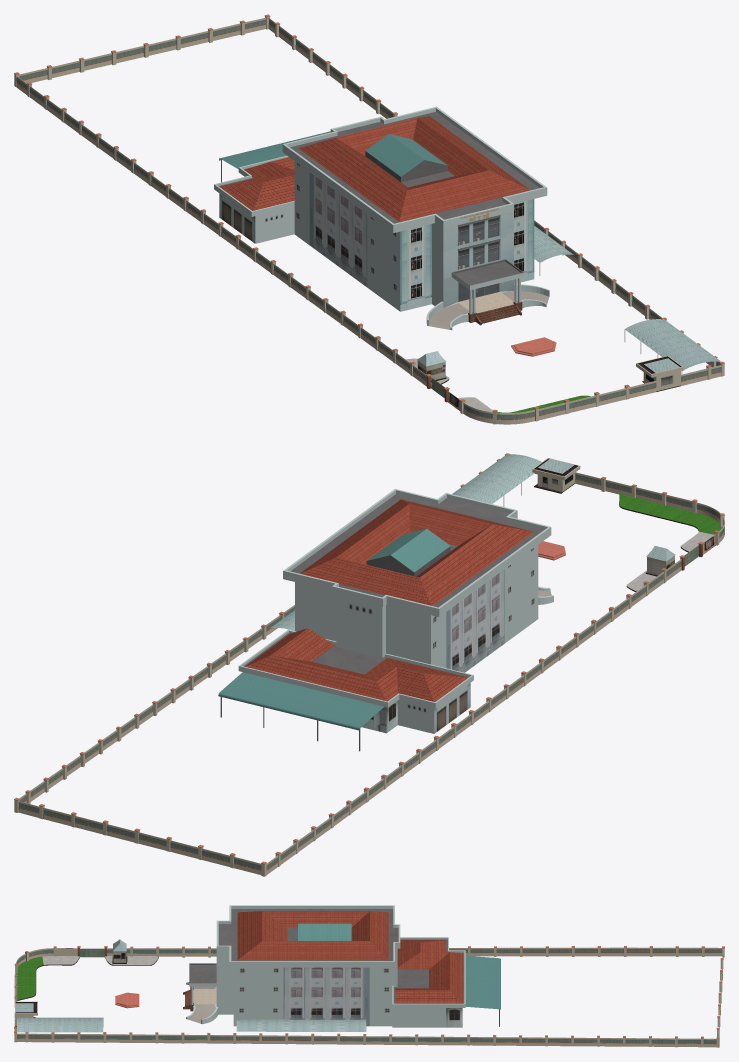
The model's file is Sở Y Tế Bình Phước.glb.
The picture shows the model from 3 angles, top to bottom: view 1: azimuth 30°, elevation 25°; view 2: azimuth 150°, elevation 25°; view 3: azimuth 270°, elevation 25°; orthographic projection. The views are drawn at different scales.
Visible parts, largest first — view 1: BPH081_2, BPH081_1; view 2: BPH081_2, BPH081_1; view 3: BPH081_2, BPH081_1, BPH081_1.001.
Boxes of the visible parts, x1=… form: BPH081_2: x1=214, y1=106, x2=549, y2=330; BPH081_1: x1=14, y1=14, x2=724, y2=424; BPH081_2: x1=218, y1=489, x2=553, y2=751; BPH081_1: x1=14, y1=453, x2=724, y2=876; BPH081_2: x1=183, y1=905, x2=500, y2=1027; BPH081_1: x1=14, y1=939, x2=724, y2=1047; BPH081_1.001: x1=115, y1=992, x2=139, y2=1008.
Size of the model in its own units: 37.46 by 14.82 by 122.
Materials: 2 (2 with a texture image).
